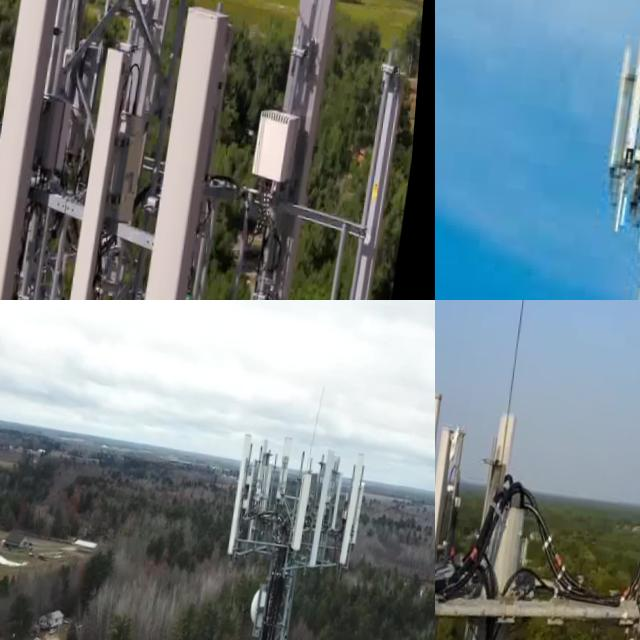GSM Antenna: (132, 0, 241, 300), (252, 0, 341, 300), (0, 0, 78, 300), (61, 24, 143, 300), (107, 0, 178, 215), (352, 59, 410, 300), (435, 418, 467, 640), (606, 19, 640, 168), (340, 441, 370, 576), (229, 421, 259, 554), (312, 437, 339, 566), (487, 399, 523, 493), (294, 464, 318, 550), (625, 12, 640, 148), (276, 424, 300, 499)
Microwave Antenna: (249, 576, 280, 638)
